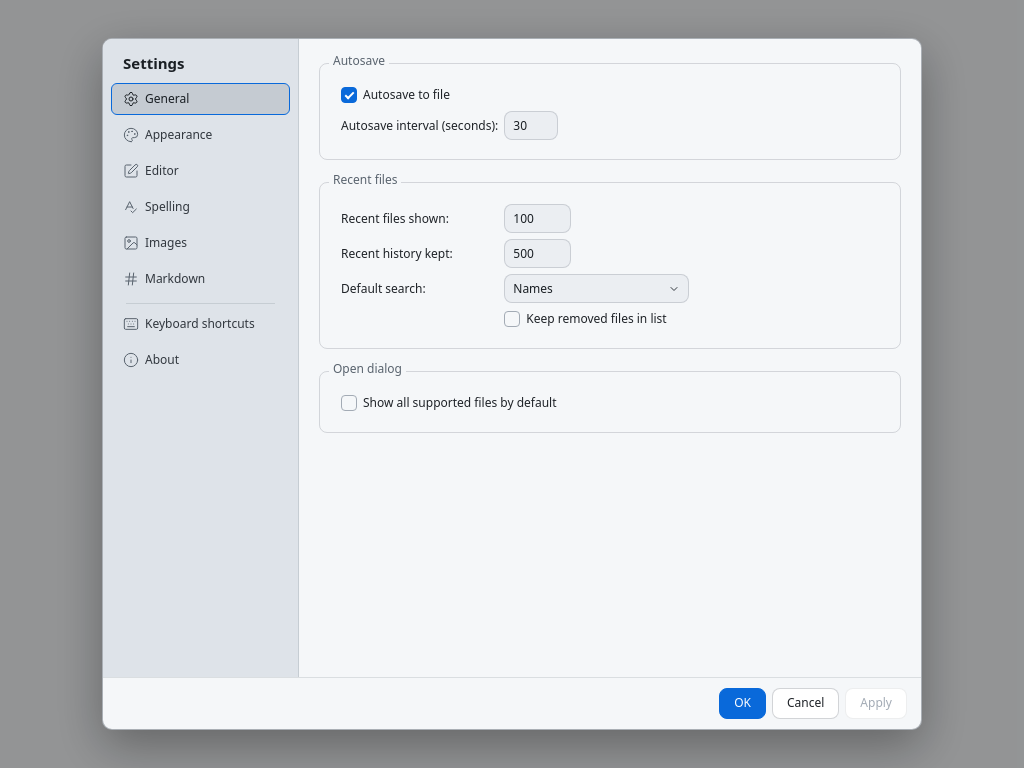
Test: SettingsDialogView pages › shows the saved values in the fields after Apply
Step 1. Replace the text in the number field named "autosaveIntervalSeconds" with "2" → (531, 126), box [504,111,558,140]
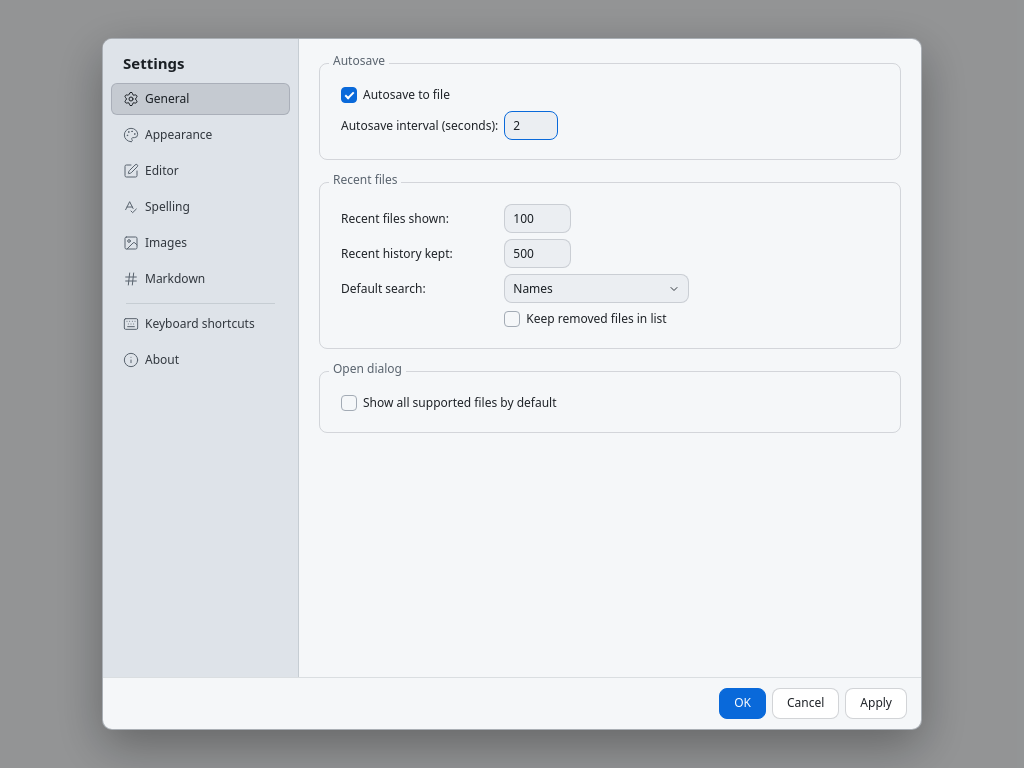
Step 2. Clear the number field named "recentFilesVisibleCount" → (538, 219), box [504,204,572,233]
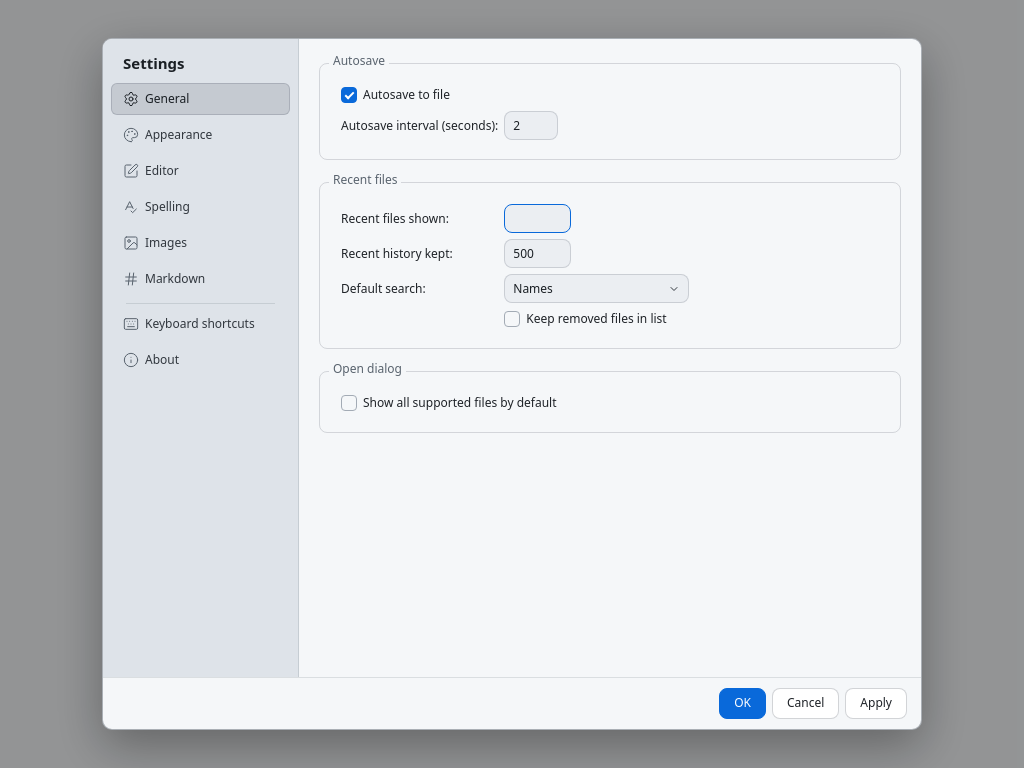
Step 3. Click the button "Apply" → (876, 703), box [845,688,907,719]
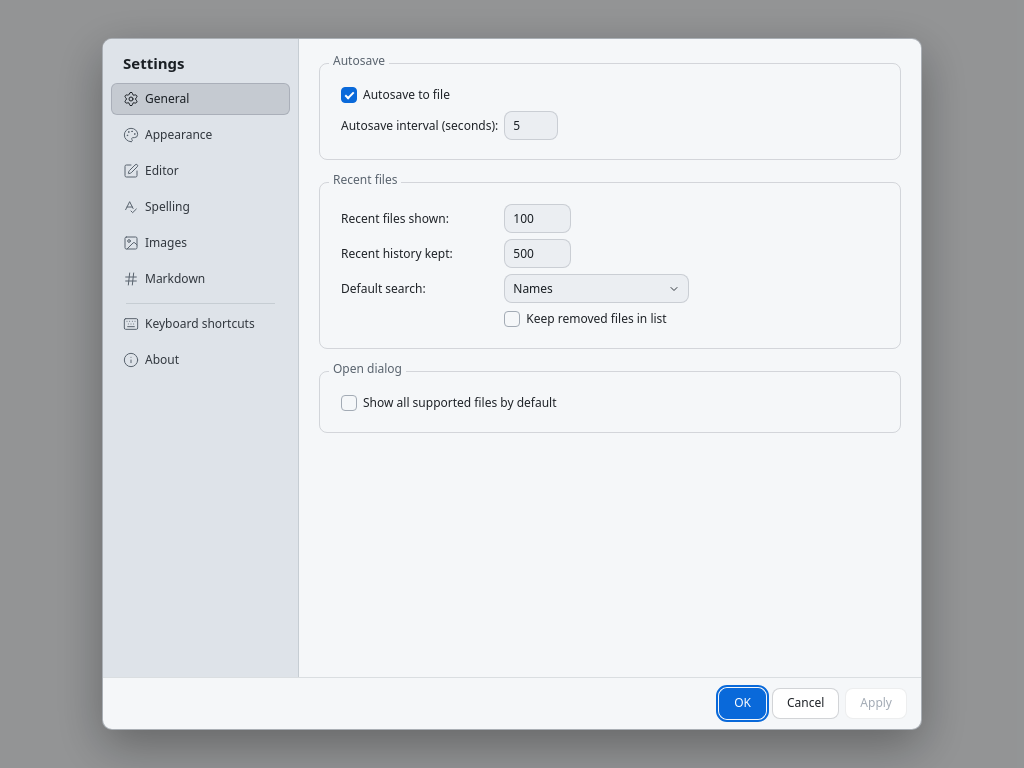
Result: the number field named "autosaveIntervalSeconds" holds "5" at [504,111,558,140]
Result: the number field named "recentFilesVisibleCount" holds "100" at [504,204,572,233]
Result: the button "Apply" is disabled at [845,688,907,719]
